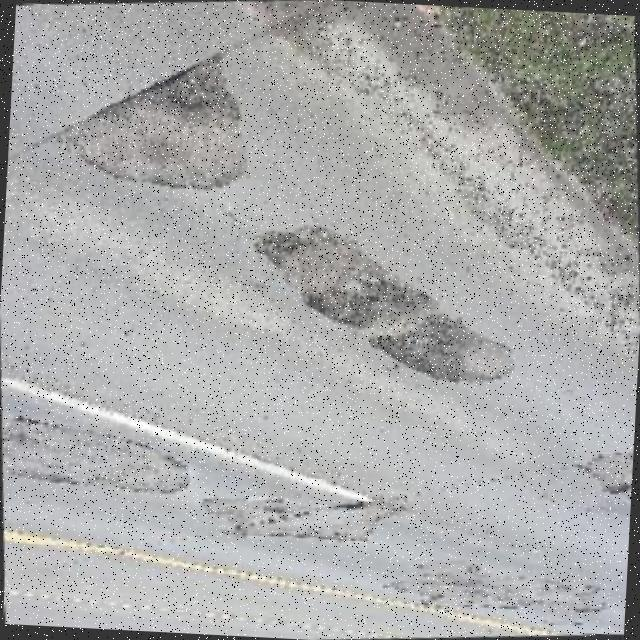Pothole: (56, 50, 248, 191), (256, 230, 432, 329), (3, 420, 190, 494), (372, 312, 515, 385), (383, 565, 599, 611), (201, 497, 393, 543), (574, 455, 633, 494)
